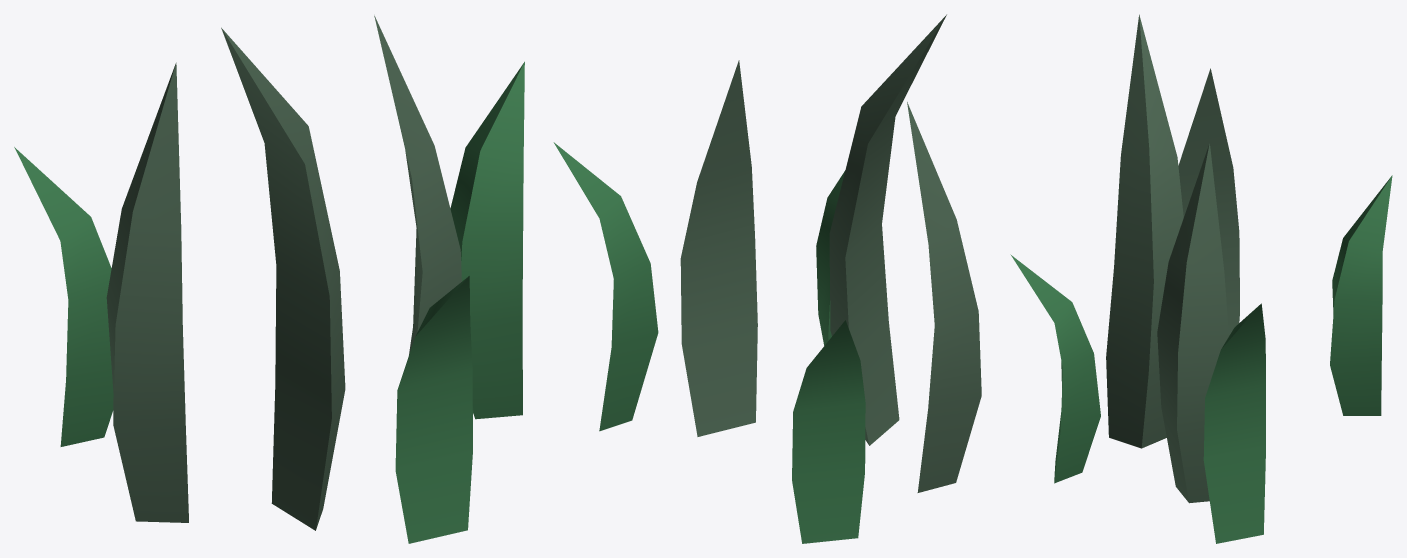
The model's file is Grass_Patch_Small.fbx.
The picture shows the model from 3 angles, left to right: view 1: azimuth 30°, elevation 25°; view 2: azimuth 150°, elevation 25°; view 3: azimuth 270°, elevation 25°; orthographic projection. The views are drawn at different scales.
Visible parts, largest first — view 1: Grass_Patch_Small; view 2: Grass_Patch_Small; view 3: Grass_Patch_Small.
Part boxes in pixels (box(x1,y1,x2,y2)): Grass_Patch_Small: box(14, 15, 524, 543); Grass_Patch_Small: box(553, 14, 981, 543); Grass_Patch_Small: box(1010, 14, 1392, 543).
Size of the model in its own units: 75.62 by 80.69 by 70.48.
